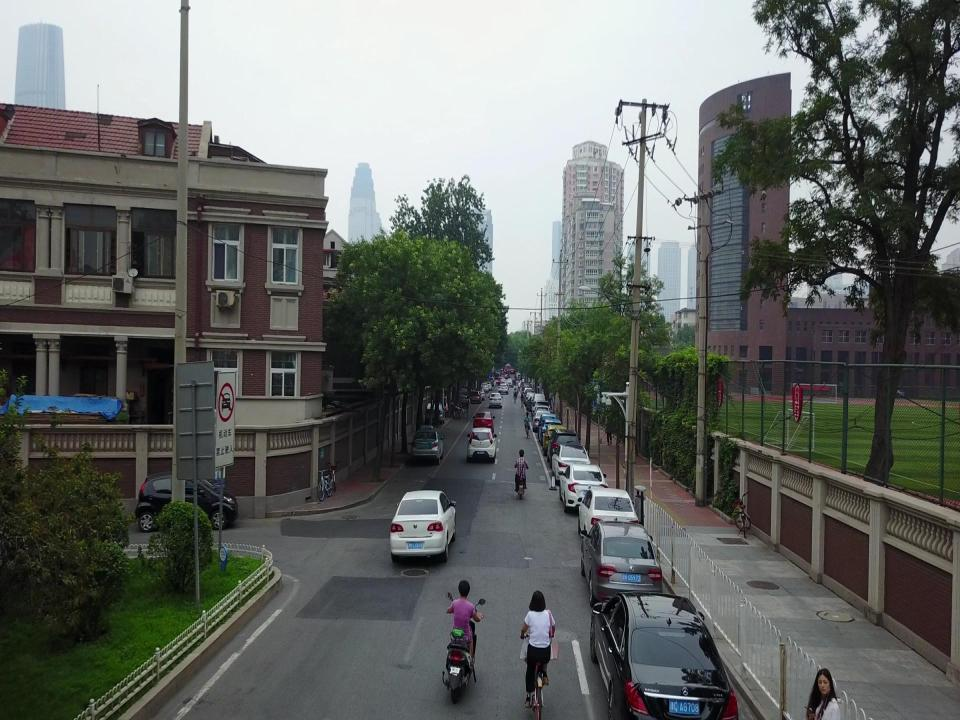car: (590, 590, 738, 720), (581, 522, 665, 603), (136, 476, 240, 531), (390, 490, 456, 566), (578, 487, 638, 542), (559, 464, 609, 512), (552, 444, 592, 481), (409, 424, 443, 463), (547, 430, 583, 462), (466, 427, 497, 461), (544, 425, 570, 453), (540, 418, 564, 445), (539, 413, 559, 440), (425, 402, 445, 425), (472, 413, 495, 432), (534, 405, 550, 429), (534, 398, 550, 422), (534, 411, 552, 430), (488, 392, 502, 409), (469, 391, 481, 404), (498, 382, 508, 394), (524, 393, 536, 403), (524, 389, 536, 399), (476, 388, 484, 401), (522, 382, 531, 393), (480, 383, 488, 393), (522, 387, 532, 395), (484, 382, 492, 391)
van: (533, 393, 547, 412), (528, 394, 542, 409)
